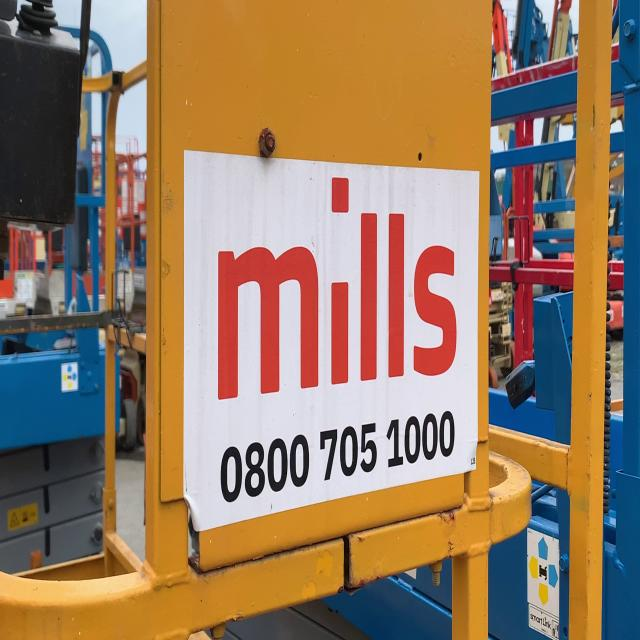Adesivos: (180, 141, 482, 536)
